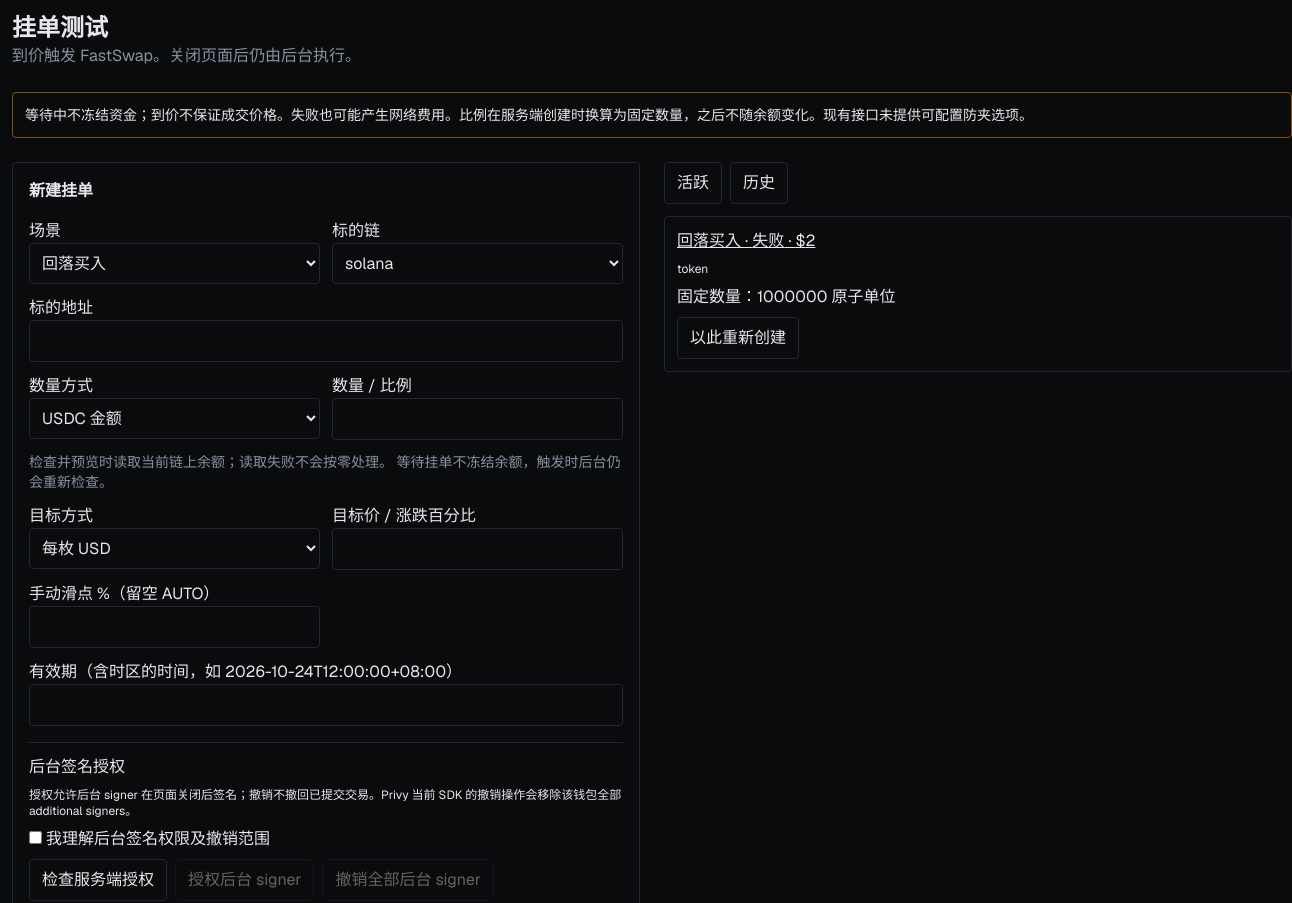
Test: copies a confirmed failed order into a draft without automatically creating
The image size is (1292, 903).
Click the button "以此重新创建" at (738, 338), box left=677, top=317, right=799, bottom=359
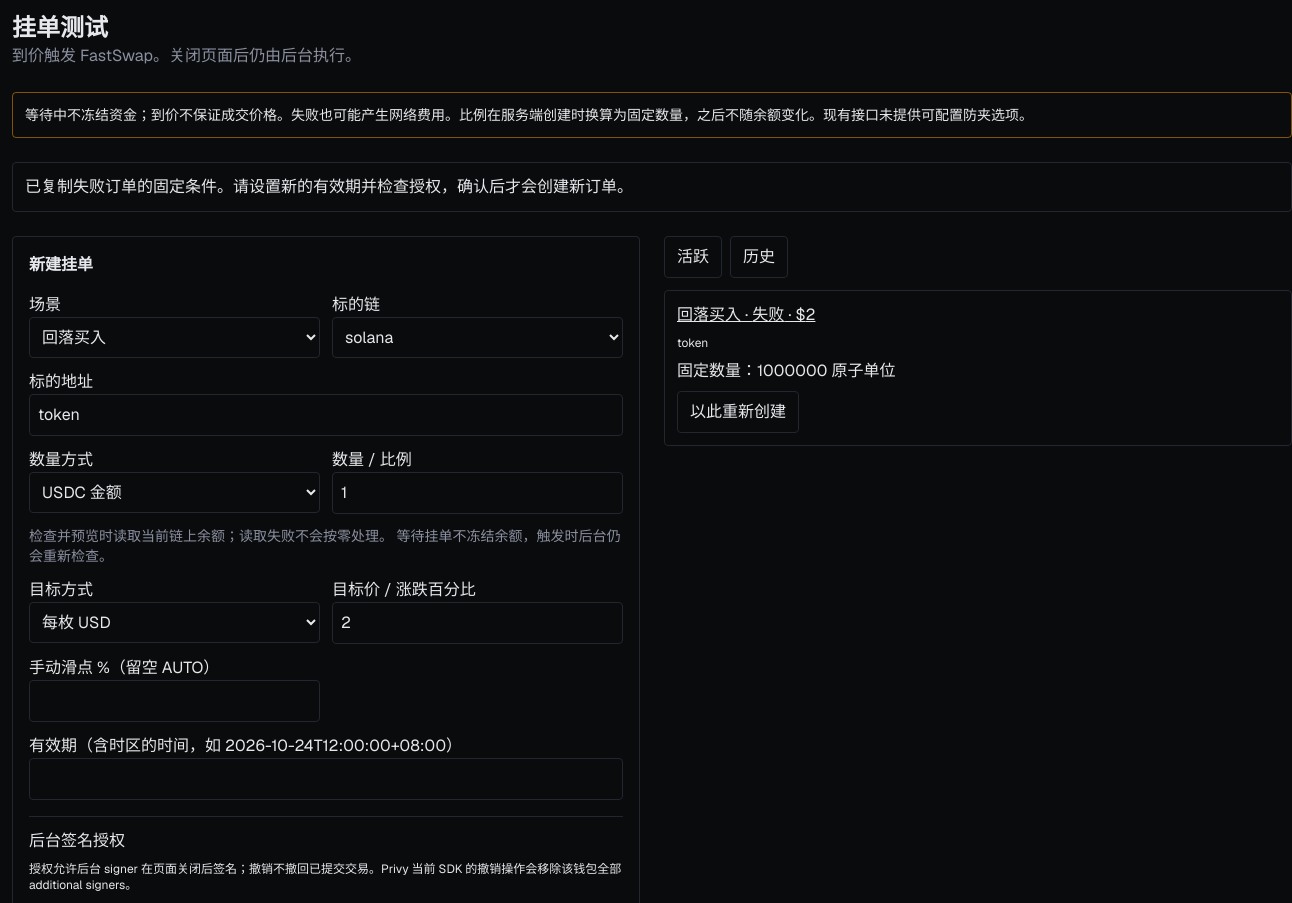
Expected: the field labelled "有效期（含时区的时间，如 2026-10-24T12:00:00+08:00）" is empty, left=29, top=758, right=623, bottom=800
Expected: the text "已复制失败订单的固定条件。请设置新的有效期并检查授权，确认后才会创建新订单。" is shown, left=12, top=162, right=1291, bottom=212
Expected: the field labelled "数量 / 比例" holds "1", left=332, top=472, right=623, bottom=514
